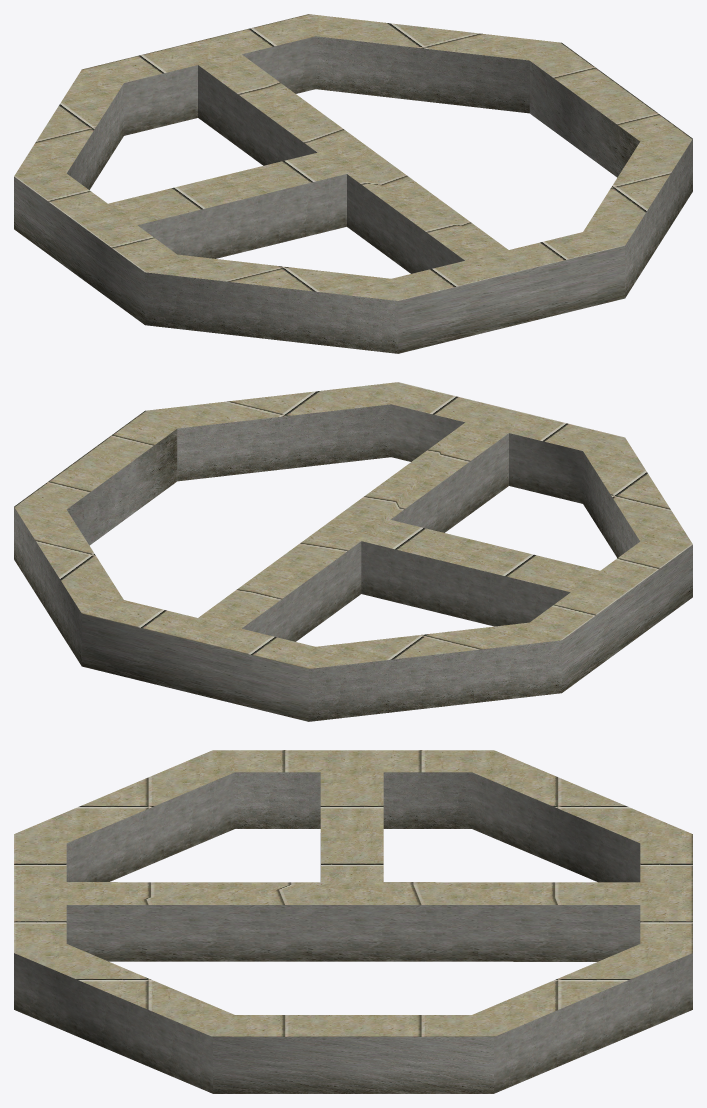
The model's file is WP_TOP_T.fbx.
3 renders of one model, top to bottom at view 1: azimuth 30°, elevation 25°; view 2: azimuth 150°, elevation 25°; view 3: azimuth 270°, elevation 25°, orthographic. The views are drawn at different scales.
Parts seen in each view (by area): view 1: WP_TOP_T; view 2: WP_TOP_T; view 3: WP_TOP_T.
Part boxes in pixels (left/top/right/bottom): WP_TOP_T: left=14, top=14, right=692, bottom=353; WP_TOP_T: left=14, top=382, right=692, bottom=721; WP_TOP_T: left=14, top=750, right=692, bottom=1093.
Size of the model in its own units: 10848 by 1000 by 10847.
Materials: 2 (2 with a texture image).
